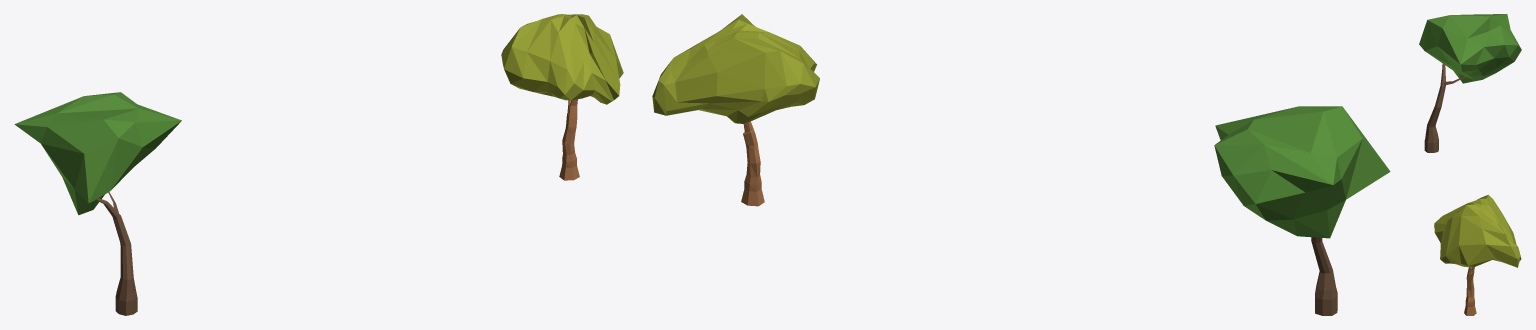
The model's file is Trees11.fbx.
3 views of the same model, side by side, from view 1: azimuth 30°, elevation 25°; view 2: azimuth 150°, elevation 25°; view 3: azimuth 270°, elevation 25° (orthographic). The views are drawn at different scales.
Visible parts, largest first — view 1: bulb2, bulb1; view 2: bulb2, bulb1; view 3: bulb2, bulb1.
Boxes of the visible parts, x1,y1,x2,y2 form: bulb2: (14, 92, 181, 315); bulb1: (501, 14, 623, 180); bulb2: (1214, 106, 1390, 315); bulb1: (652, 14, 819, 206); bulb2: (1419, 14, 1521, 152); bulb1: (1434, 194, 1521, 315).
Bounding box in the file's own units: 1346 × 408 × 289.
